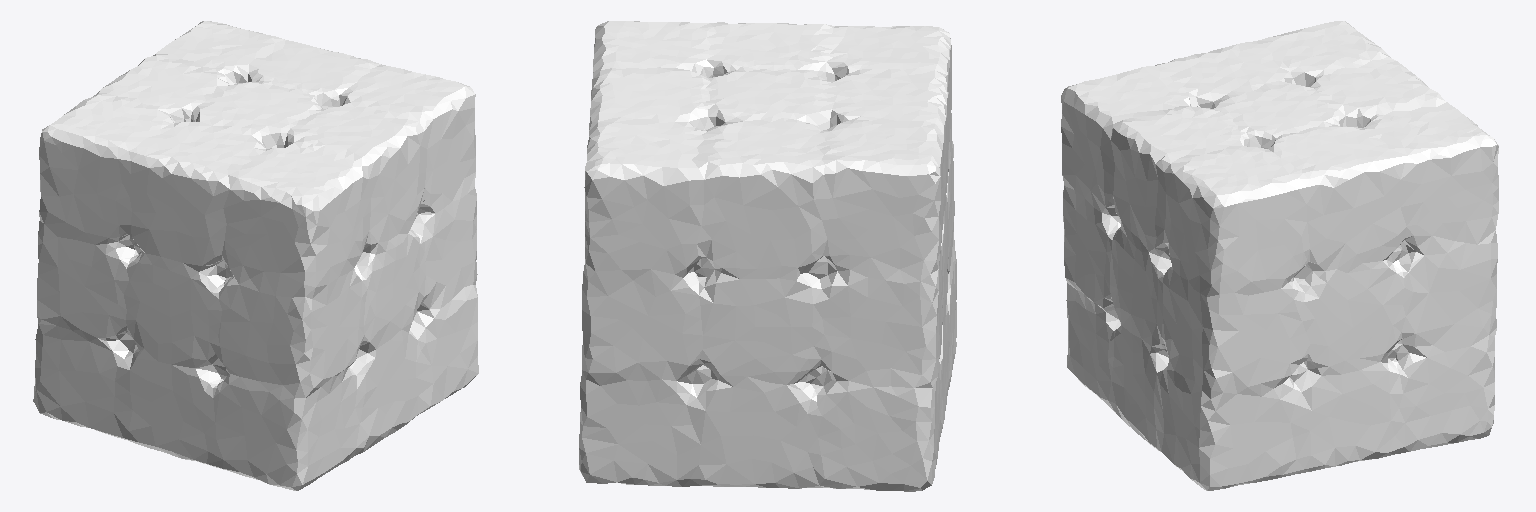
The robot description file, URDF, robot "cracker_box":
<?xml version="1.0" ?>
<robot name="cracker_box">
  <link name="Link">

    <inertial>
      <origin rpy="0 0 0" xyz="-0.016219 -0.000485 0.028590"/>
       <mass value="0.2"/>

       <inertia ixx="9.827e-8" ixy="1.1e-10" ixz="-7e-11"
                iyy="9.815e-8" iyz="6.0e-11"
                izz="9.808e-8"/>
    </inertial>
    <visual>
      <origin rpy="0 0 0" xyz="0 0 0"/>
      <geometry>
            <mesh filename="textured2.obj" scale="1 1 1"/>
      </geometry>
        <material name="framemat0">
        <color rgba="1 1 1 1"/>
      </material>
    </visual>

    <collision>
      <geometry>
	 	 <mesh filename="textured2.obj" scale="1 1 1"/>
      </geometry>
    </collision>
  </link>
</robot>

--- What the picture shows (computed from the rendered views, not written in the file) ---
The picture shows the robot from 3 angles, left to right: view 1: azimuth 30°, elevation 25°; view 2: azimuth 150°, elevation 25°; view 3: azimuth 270°, elevation 25°; orthographic projection.
Model cracker_box with 1 links and 0 joints (none), rooted at Link, posed every joint at zero.
Links seen in each view (by area): view 1: Link; view 2: Link; view 3: Link.
Link boxes in pixels (x1,y1,x2,y2): Link: (33, 21, 478, 490); Link: (579, 21, 956, 491); Link: (1061, 21, 1498, 490).
Bounding box of the posed robot: 0.0758 × 0.0763 × 0.058 m (x, y, z).
Meshes: 1 distinct files referenced, 1 mesh visuals loaded (1 OBJ).